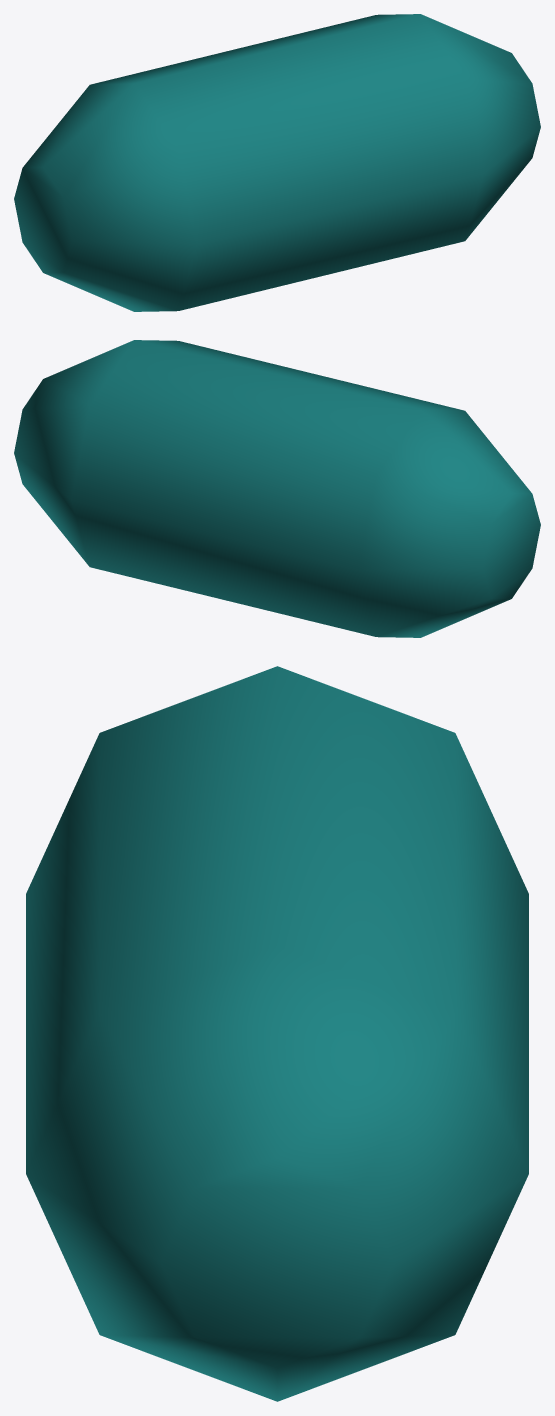
The model's file is dumbbell_collider.fbx.
3 views of the same model, one above another, from view 1: azimuth 30°, elevation 25°; view 2: azimuth 150°, elevation 25°; view 3: azimuth 270°, elevation 25° (orthographic). The views are drawn at different scales.
Visible parts, largest first — view 1: dumbbell_collider; view 2: dumbbell_collider; view 3: dumbbell_collider.
Part boxes in pixels (x1,y1,x2,y2): dumbbell_collider: (14,14,540,311); dumbbell_collider: (14,340,540,637); dumbbell_collider: (26,666,528,1401).
Bounding box in the file's own units: 40.4 × 18.78 × 18.78.
